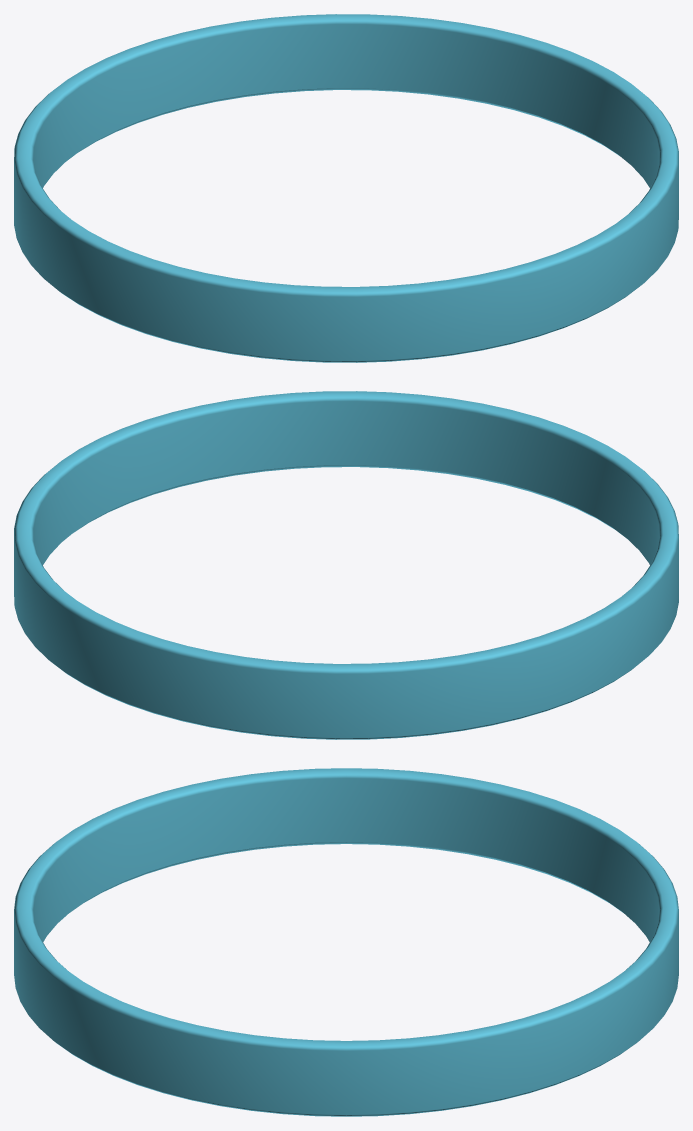
3 renders of one model, top to bottom at view 1: azimuth 30°, elevation 25°; view 2: azimuth 150°, elevation 25°; view 3: azimuth 270°, elevation 25°, orthographic.
Parts seen in each view (by area): view 1: seal_body; view 2: seal_body; view 3: seal_body.
Boxes of the visible parts, box(x1,y1,x2,y2) form: seal_body: box(14, 14, 678, 362); seal_body: box(14, 391, 678, 739); seal_body: box(14, 768, 678, 1116).
Size of the model in its own units: 0.108 by 0.0127 by 0.108.
